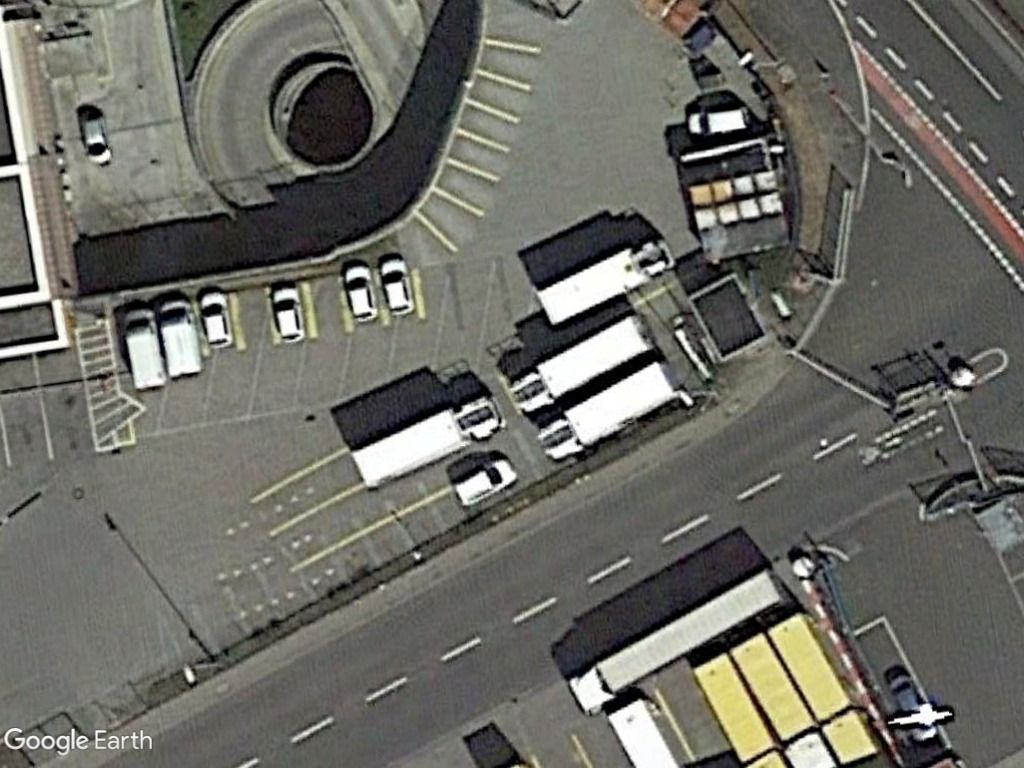car: (264, 278, 309, 347), (335, 258, 380, 324), (374, 254, 418, 320), (75, 104, 116, 172), (194, 285, 236, 350)
longvehicle: (561, 564, 792, 720)
truck: (508, 310, 664, 421), (348, 387, 499, 496), (536, 359, 678, 465), (533, 239, 672, 331)
van: (446, 452, 523, 511), (119, 305, 166, 394), (159, 294, 207, 379)
